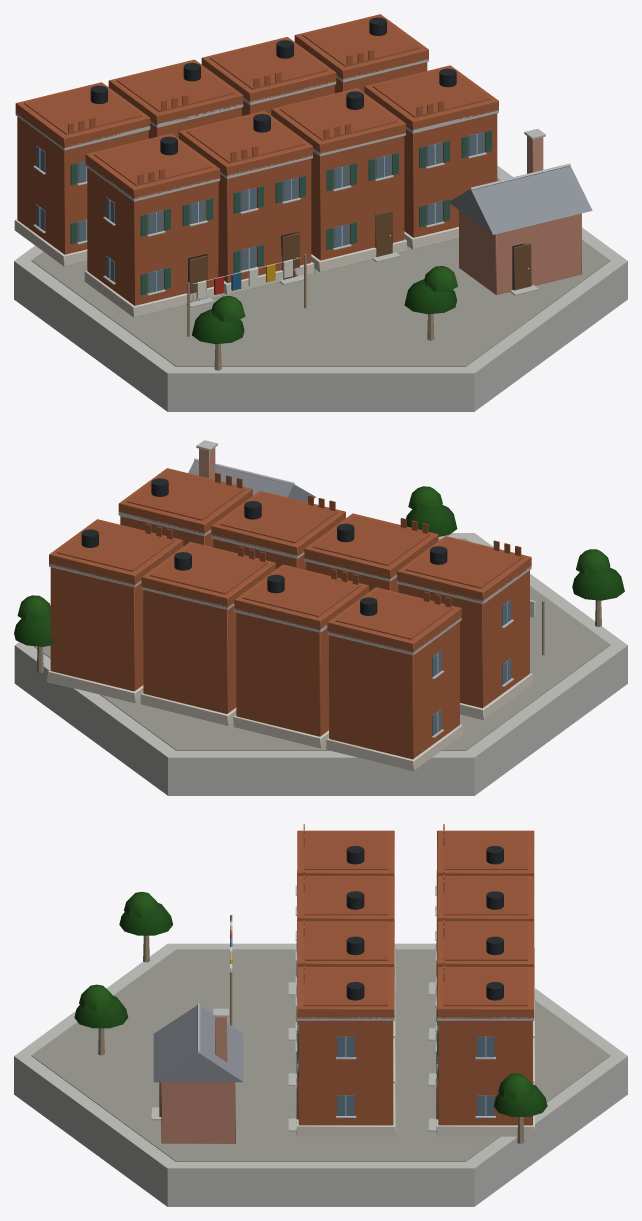
The model's file is workerHouse_india.glb.
3 renders of one model, top to bottom at view 1: azimuth 30°, elevation 25°; view 2: azimuth 150°, elevation 25°; view 3: azimuth 270°, elevation 25°, orthographic.
Parts seen in each view (by area): view 1: plaster, wall_concrete, pavers, wood, brick, roof_slate, glass, stone, leaf, paint; view 2: plaster, wall_concrete, pavers, stone, leaf, paint, roof_slate, glass, wood; view 3: plaster, pavers, wall_concrete, roof_slate, leaf, brick, stone, paint, glass, wood.
Boxes of the visible parts, x1,y1,x2,y2 form: plaster: (15, 14, 498, 305); wall_concrete: (14, 59, 627, 411); pavers: (31, 178, 610, 366); wood: (70, 130, 531, 370); brick: (459, 136, 581, 294); roof_slate: (448, 166, 592, 234); glass: (36, 132, 484, 293); stone: (14, 219, 458, 317); leaf: (192, 266, 457, 344); paint: (90, 17, 456, 299); plaster: (49, 468, 531, 759); wall_concrete: (14, 440, 627, 795); pavers: (33, 538, 610, 750); stone: (47, 670, 532, 770); leaf: (14, 486, 624, 646); paint: (81, 478, 538, 617); roof_slate: (188, 461, 315, 502); glass: (432, 599, 511, 735); wood: (36, 600, 601, 673); plaster: (297, 824, 534, 1125); pavers: (31, 949, 610, 1161); wall_concrete: (14, 869, 627, 1206); roof_slate: (153, 1005, 243, 1082); leaf: (74, 891, 547, 1116); brick: (161, 1017, 235, 1143); stone: (296, 947, 534, 1136); paint: (230, 846, 503, 1000); glass: (297, 1022, 494, 1115); wood: (98, 915, 524, 1143).
Size of the model in its own units: 21.3 by 7.93 by 24.6.
